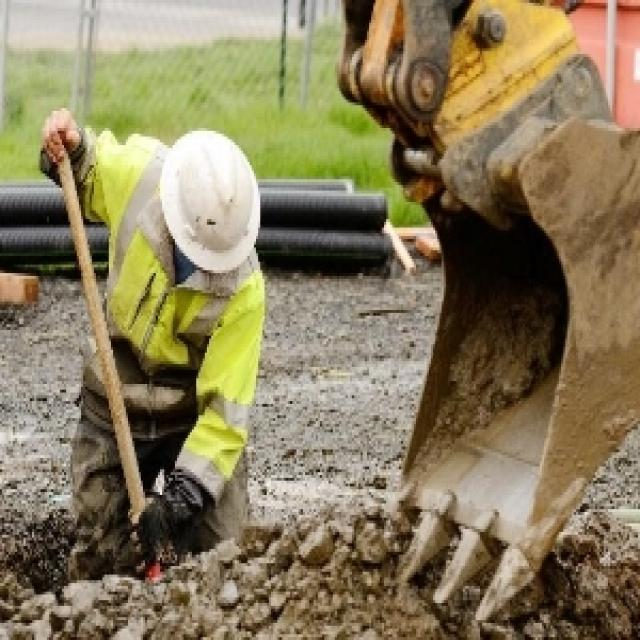helmet: (156, 120, 262, 280)
vest: (74, 113, 258, 506)
